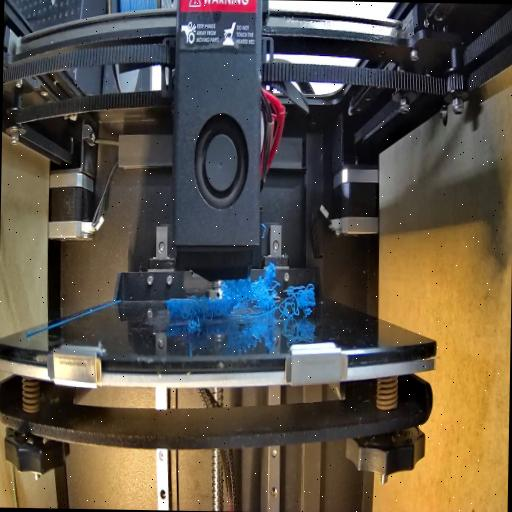spaghetti: (222, 274, 314, 320), (178, 296, 216, 334)
